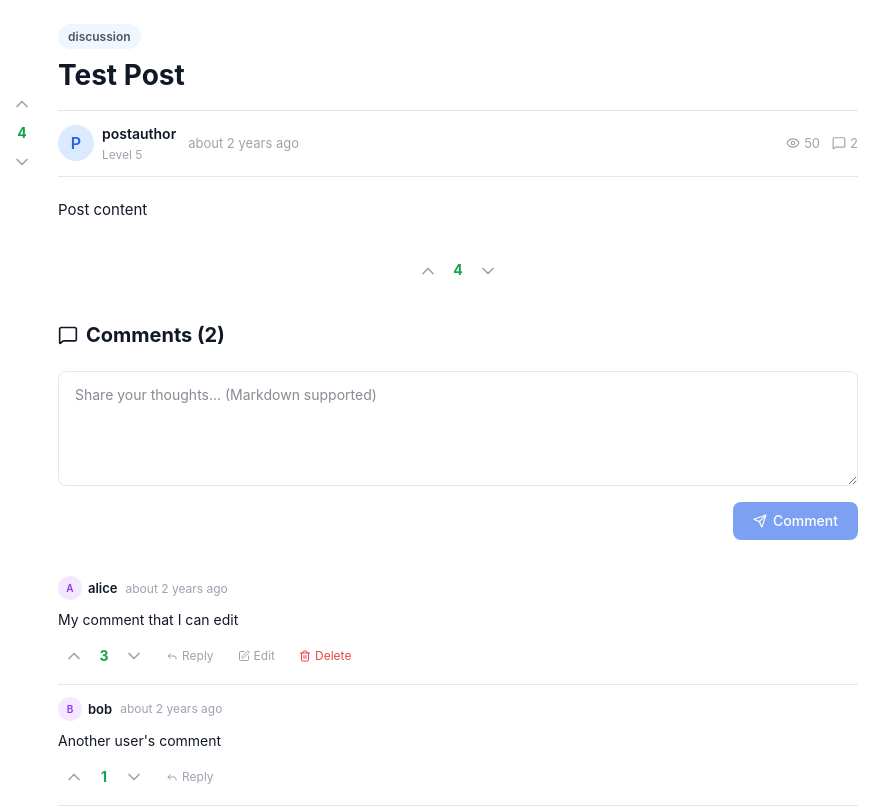
Scenario: PostDetailPage - Comment Editing › Edit mode › shows Save and Cancel buttons in edit mode
The width and height of the screenshot is (875, 810).
Click the button "Edit" at (256, 656), box [230,642,283,670]
(page scrolled)
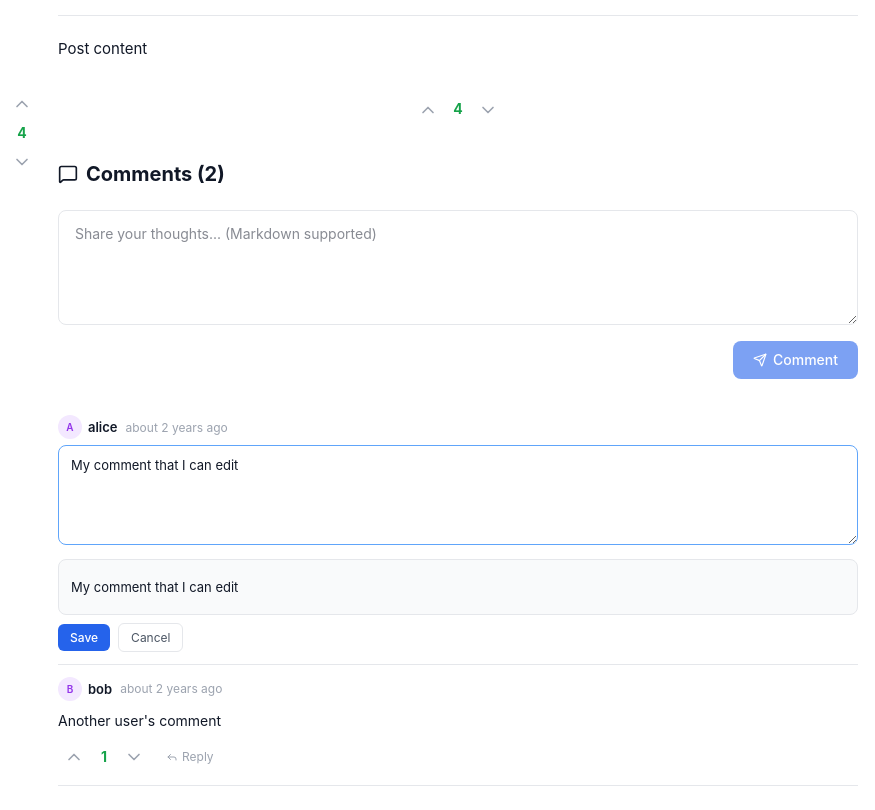
Expected: the button "Save" is shown, [58,624,110,651]
Expected: the button "Cancel" is shown, [118,623,184,652]
